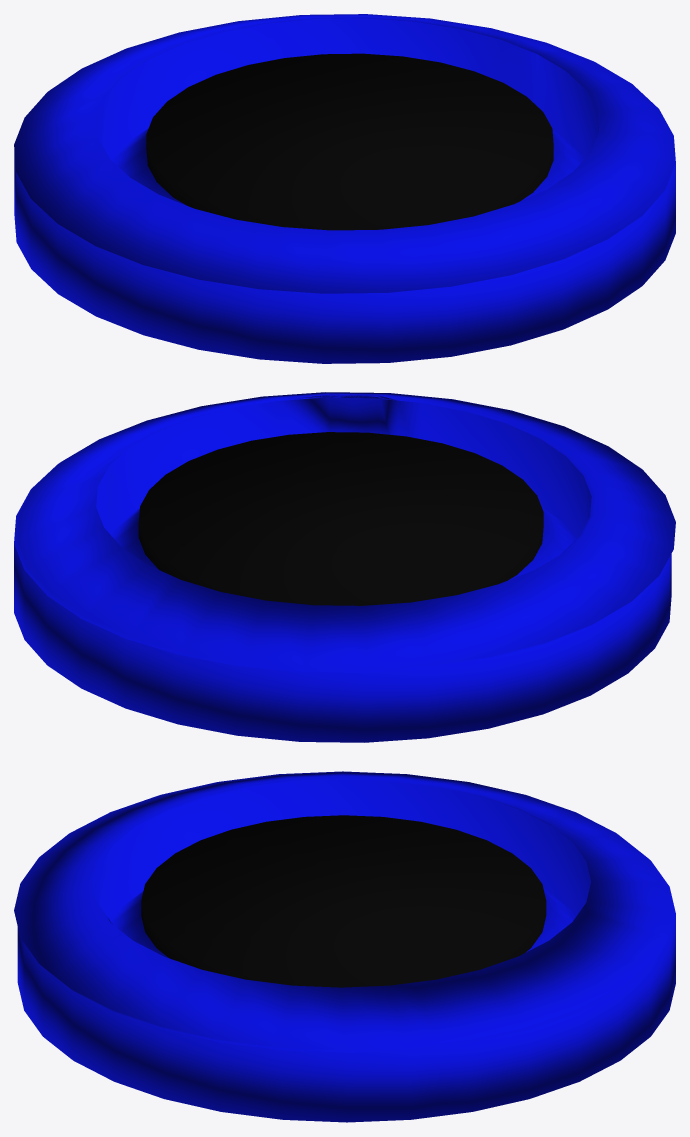
Rendered from bpressed.fbx.
The picture shows the model from 3 angles, top to bottom: view 1: azimuth 30°, elevation 25°; view 2: azimuth 150°, elevation 25°; view 3: azimuth 270°, elevation 25°; orthographic projection.
Visible parts, largest first — view 1: Cylinder.001; view 2: Cylinder.001; view 3: Cylinder.001.
Part boxes in pixels (box(x1,y1,x2,y2)): Cylinder.001: box(14, 14, 675, 363); Cylinder.001: box(14, 392, 675, 742); Cylinder.001: box(14, 771, 675, 1122).
Bounding box in the file's own units: 201 × 33.98 × 201.
